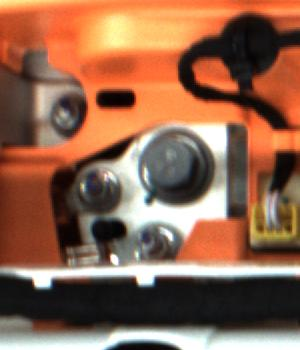nut_b: (141, 131, 215, 199)
